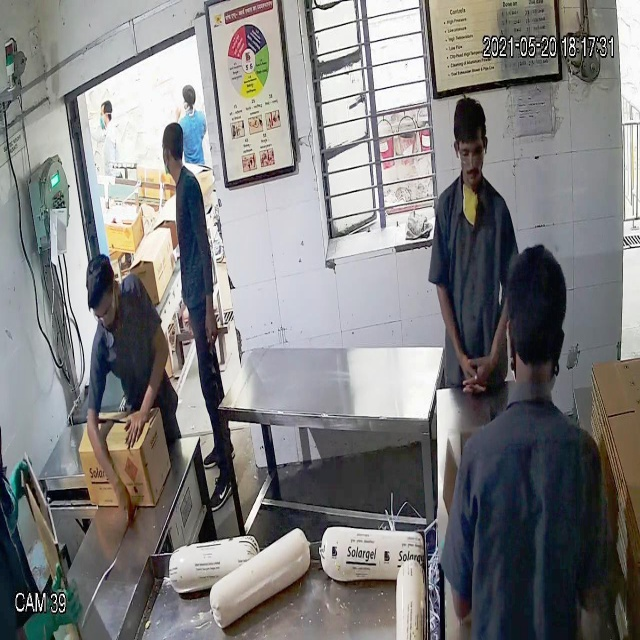Gafas: (454, 141, 490, 166), (89, 296, 120, 325)
